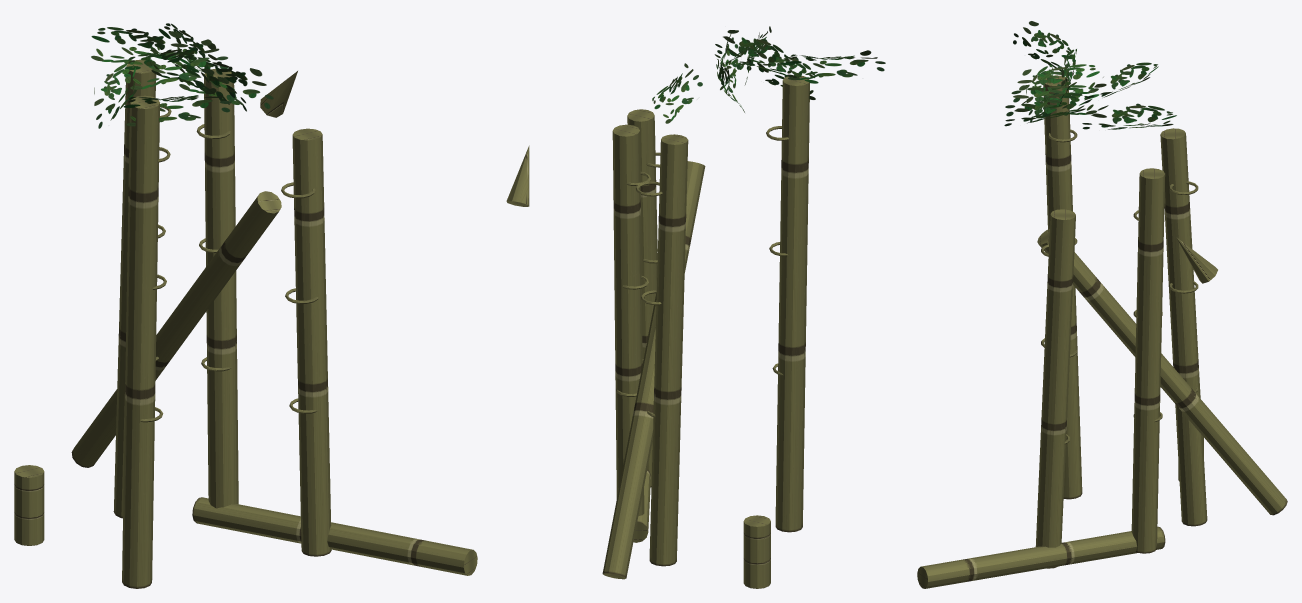
Rendered from rung-tre-than-tre-gay.glb.
3 renders of one model, left to right at view 1: azimuth 30°, elevation 25°; view 2: azimuth 150°, elevation 25°; view 3: azimuth 270°, elevation 25°, orthographic. The views are drawn at different scales.
Parts seen in each view (by area): view 1: rung-tre-than-tre-gay; view 2: rung-tre-than-tre-gay; view 3: rung-tre-than-tre-gay.
Part boxes in pixels (bbox=[...]): rung-tre-than-tre-gay: bbox=[14, 23, 477, 588]; rung-tre-than-tre-gay: bbox=[506, 26, 885, 588]; rung-tre-than-tre-gay: bbox=[917, 21, 1287, 588].
Bounding box in the file's own units: 2.3 × 3.54 × 2.6.
Materials: 2 (2 with a texture image).
